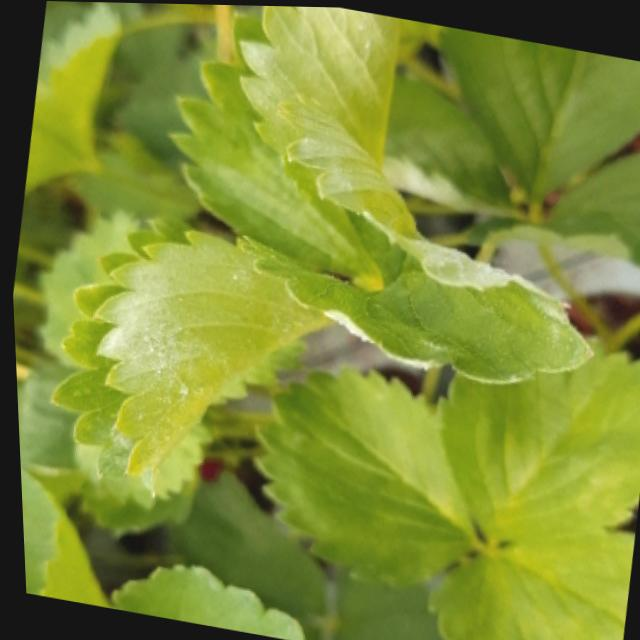Powdery Mildew Leaf: (238, 93, 591, 383), (46, 214, 328, 503), (169, 5, 401, 275)
